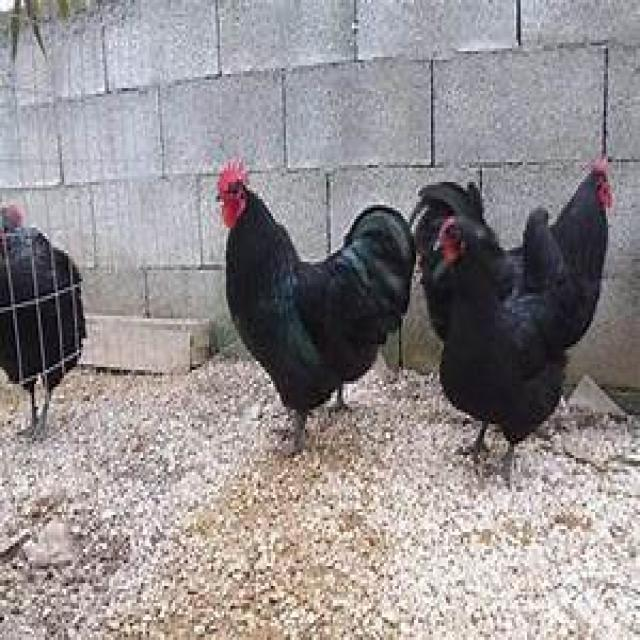animal: (406, 154, 614, 489), (213, 157, 416, 455), (0, 202, 87, 441)
